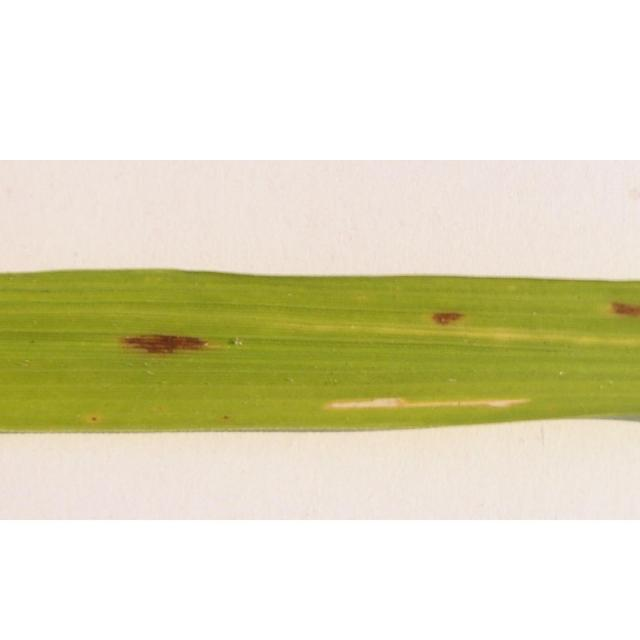Brown spot: (107, 322, 221, 374), (418, 298, 484, 332), (74, 400, 116, 430), (602, 296, 640, 325)
